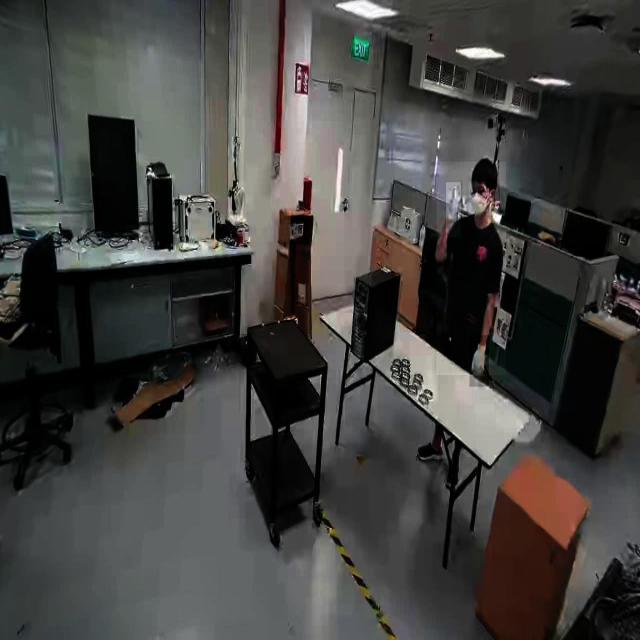face_mask: (469, 181, 491, 215)
hand_glove: (470, 335, 490, 388), (446, 182, 461, 238)
head_nohelmet: (471, 156, 497, 180)
person: (436, 162, 506, 376)
shoes: (416, 440, 446, 467)
